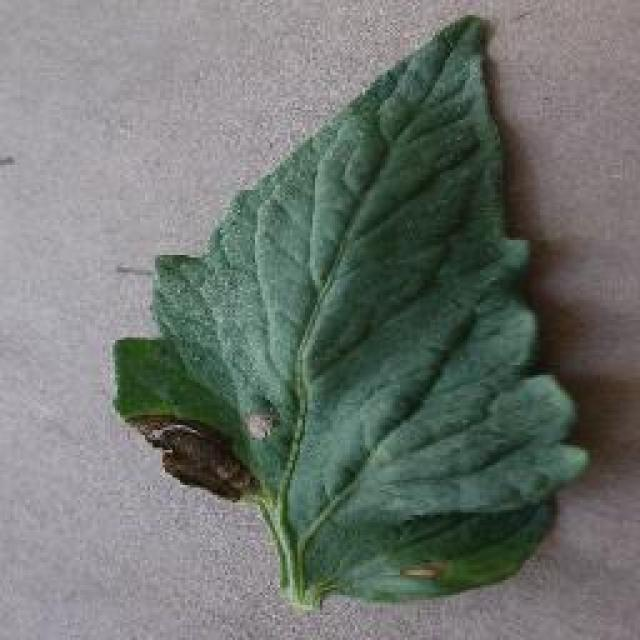Tomato Early blight leaf: (112, 12, 589, 616)
